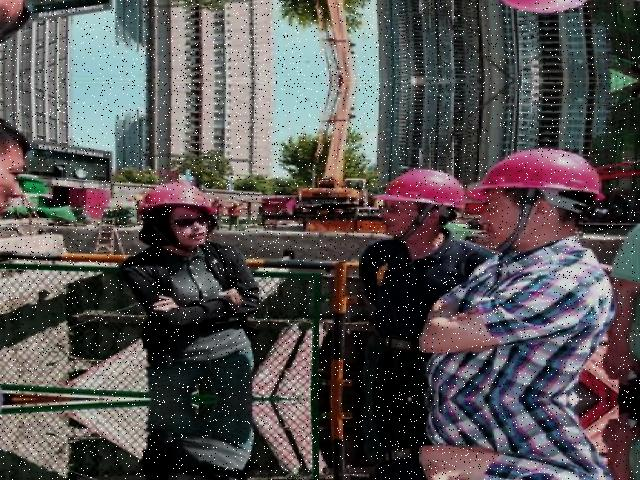Helmet: (476, 144, 614, 211), (369, 165, 472, 215), (136, 180, 222, 215)
